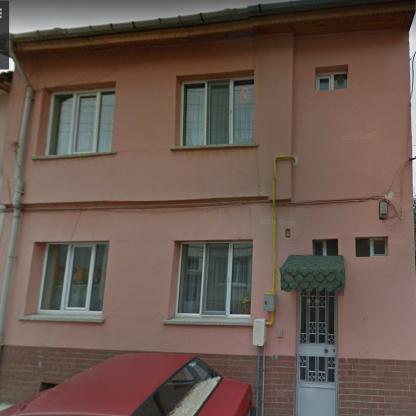door: (296, 290, 337, 385)
window: (175, 242, 251, 318), (180, 76, 254, 146), (37, 244, 107, 314), (44, 89, 114, 158), (356, 239, 386, 256), (319, 74, 345, 88), (313, 240, 337, 255)
